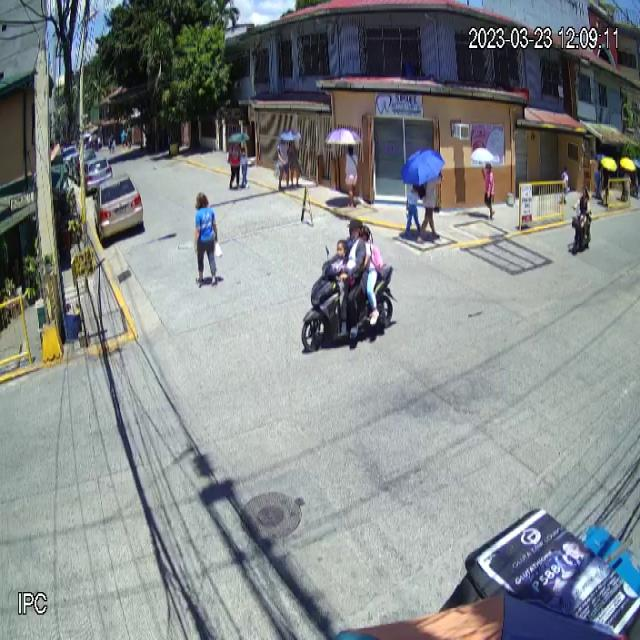Car: (92, 173, 144, 241)
Motorcycle: (300, 243, 398, 352)
